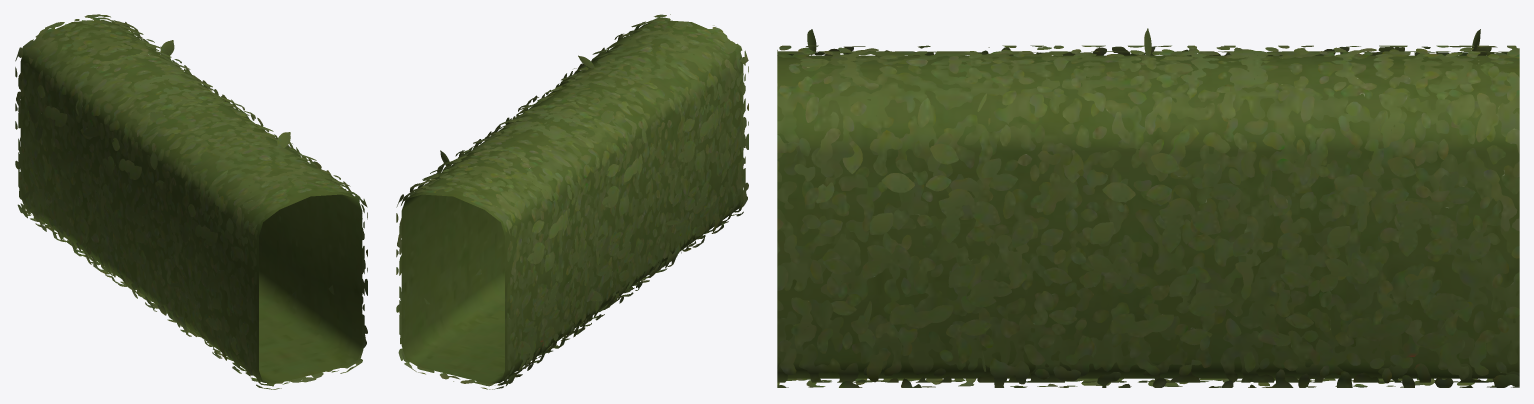
3 renders of one model, left to right at view 1: azimuth 30°, elevation 25°; view 2: azimuth 150°, elevation 25°; view 3: azimuth 270°, elevation 25°, orthographic. The views are drawn at different scales.
Visible parts, largest first — view 1: body0_model0_lod0_mesh0; view 2: body0_model0_lod0_mesh0; view 3: body0_model0_lod0_mesh0.
Boxes of the visible parts, x1,y1,x2,y2 form: body0_model0_lod0_mesh0: (15,14,367,389); body0_model0_lod0_mesh0: (396,14,748,389); body0_model0_lod0_mesh0: (777,28,1519,387).
Bounding box in the file's own units: 45.19 × 59.71 × 128.
1 material, 1 textured.
